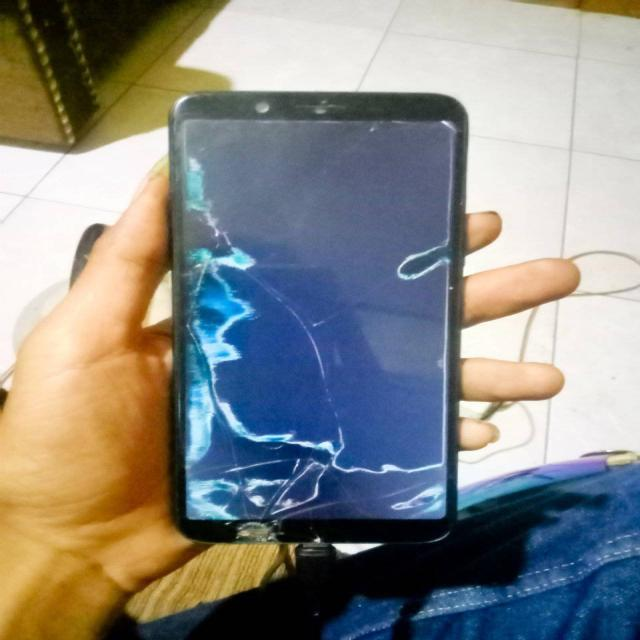phone: (169, 90, 457, 539)
